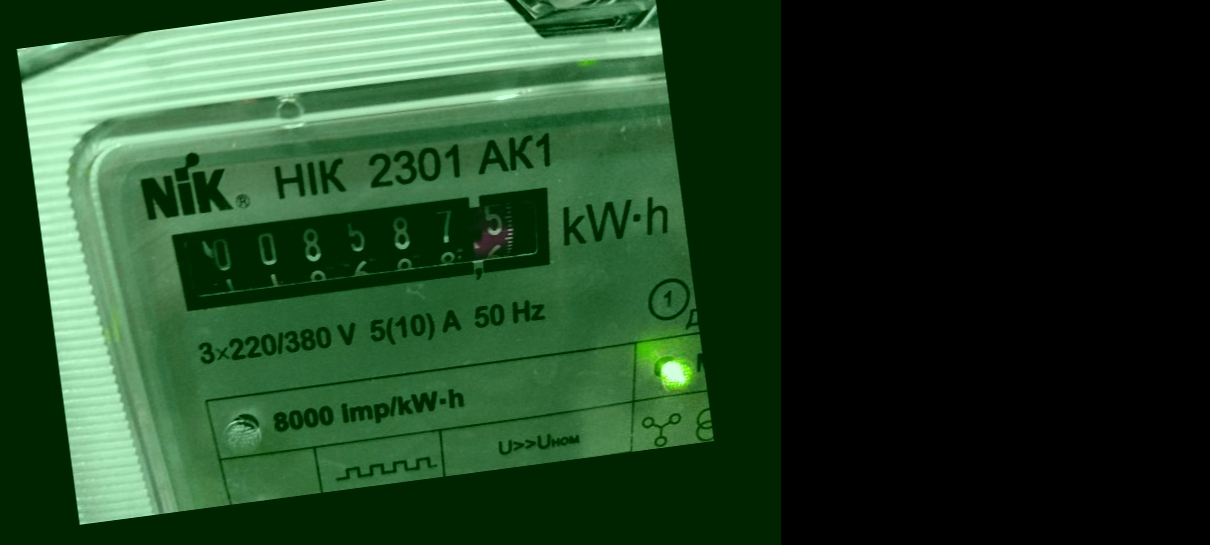0: (251, 226, 281, 269)
1: (206, 232, 235, 276)
5: (479, 197, 508, 240), (342, 215, 370, 256)
7: (430, 204, 458, 248)
8: (295, 222, 326, 266), (387, 210, 413, 254)
screen: (148, 163, 578, 335)
